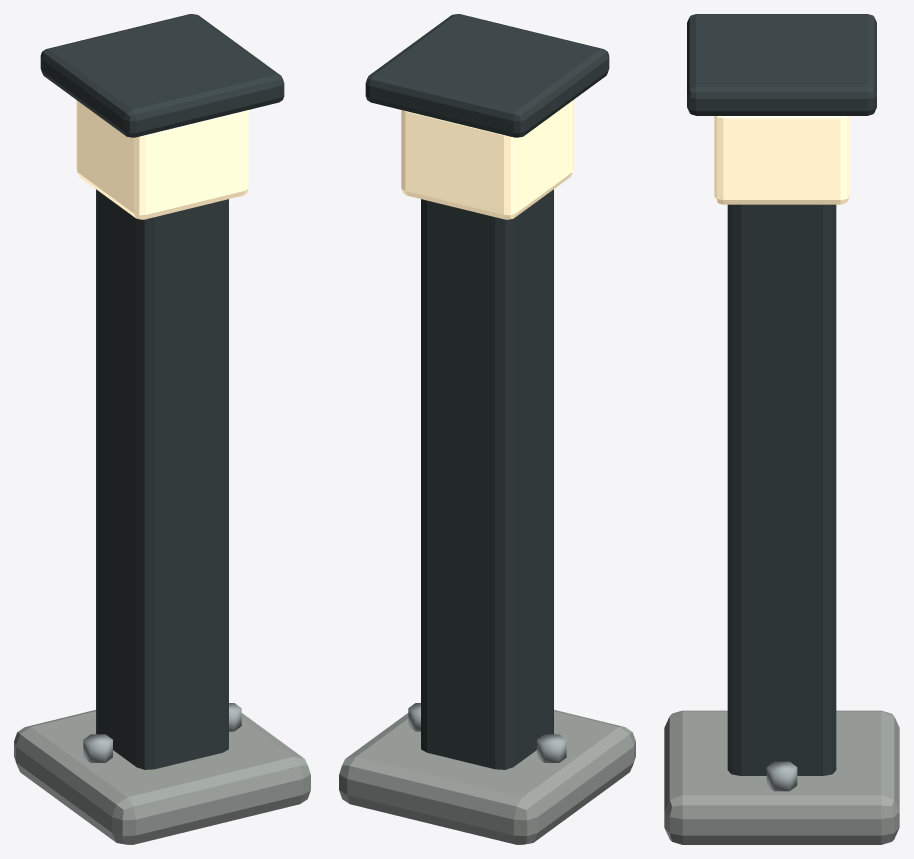
File: site-bollard.glb
3 views of the same model, side by side, from view 1: azimuth 30°, elevation 25°; view 2: azimuth 150°, elevation 25°; view 3: azimuth 270°, elevation 25° (orthographic). The views are drawn at different scales.
Parts seen in each view (by area): view 1: site-bollard_Anthracite_anodized_metal, site-bollard_Honed_grey_sandstone, site-bollard_Opal_light_diffuser, site-bollard_Galvanized_brushed_steel; view 2: site-bollard_Anthracite_anodized_metal, site-bollard_Honed_grey_sandstone, site-bollard_Opal_light_diffuser, site-bollard_Galvanized_brushed_steel; view 3: site-bollard_Anthracite_anodized_metal, site-bollard_Honed_grey_sandstone, site-bollard_Opal_light_diffuser, site-bollard_Galvanized_brushed_steel.
Boxes of the visible parts, left/top/right/bottom form: site-bollard_Anthracite_anodized_metal: left=40, top=14, right=284, bottom=769; site-bollard_Honed_grey_sandstone: left=14, top=710, right=310, bottom=844; site-bollard_Opal_light_diffuser: left=76, top=100, right=248, bottom=219; site-bollard_Galvanized_brushed_steel: left=83, top=703, right=241, bottom=762; site-bollard_Anthracite_anodized_metal: left=365, top=14, right=609, bottom=769; site-bollard_Honed_grey_sandstone: left=339, top=710, right=635, bottom=844; site-bollard_Opal_light_diffuser: left=401, top=100, right=573, bottom=219; site-bollard_Galvanized_brushed_steel: left=408, top=703, right=566, bottom=762; site-bollard_Anthracite_anodized_metal: left=687, top=14, right=876, bottom=775; site-bollard_Honed_grey_sandstone: left=664, top=710, right=899, bottom=844; site-bollard_Opal_light_diffuser: left=714, top=116, right=849, bottom=204; site-bollard_Galvanized_brushed_steel: left=766, top=761, right=797, bottom=791.
Bounding box in the file's own units: 0.26 × 0.9175 × 0.26.
